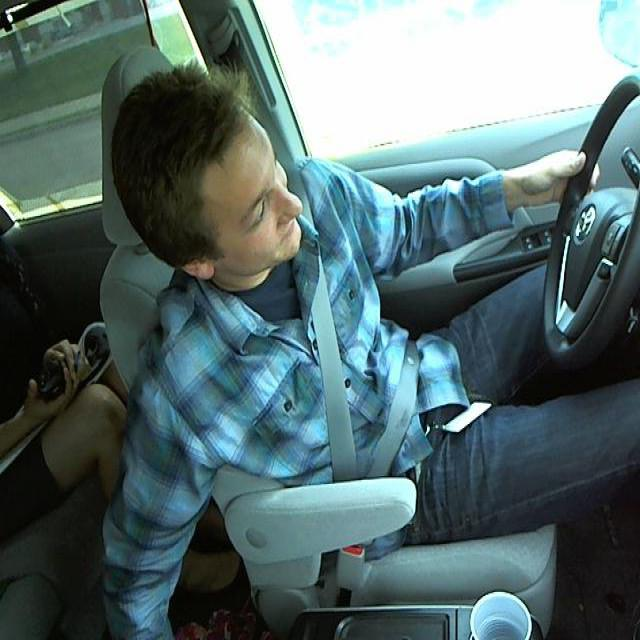seatbelt: (292, 261, 415, 492)
